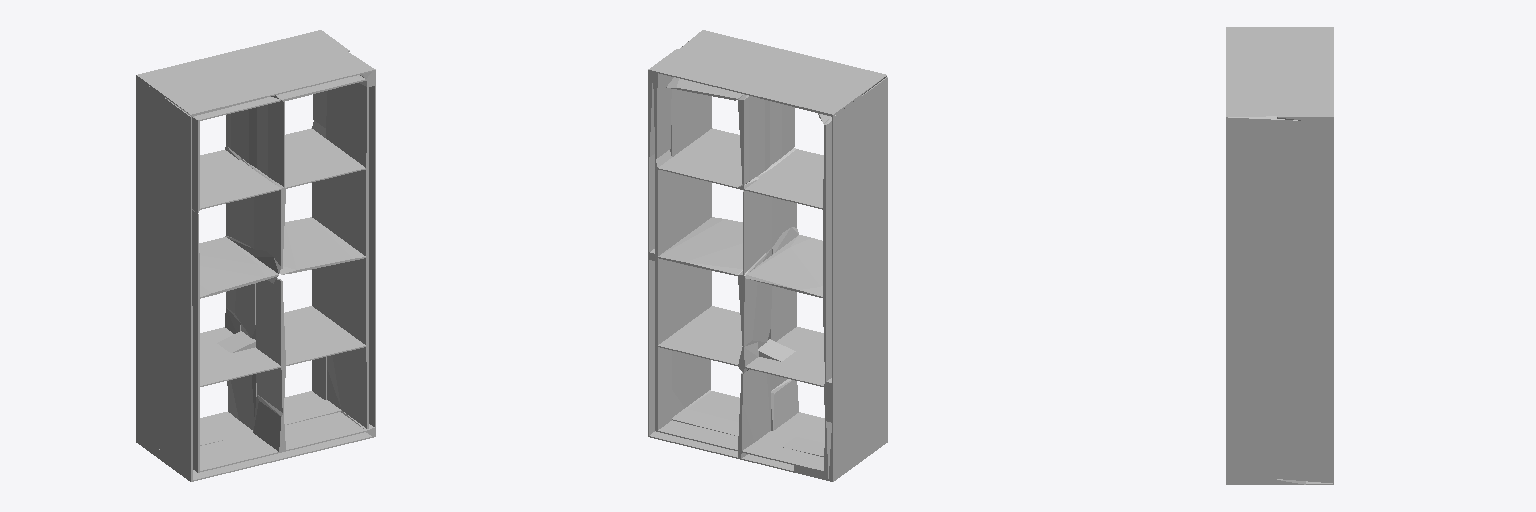
The model's file is new_bookshelf.obj.
3 views of the same model, side by side, from view 1: azimuth 30°, elevation 25°; view 2: azimuth 150°, elevation 25°; view 3: azimuth 270°, elevation 25° (orthographic).
Visible parts, largest first — view 1: convex_14, convex_4, convex_20, convex_23, convex_11, convex_0, convex_8, convex_27, convex_28, convex_40, convex_21, convex_12 (+17 smaller); view 2: convex_20, convex_4, convex_14, convex_23, convex_11, convex_0, convex_46, convex_21, convex_40, convex_27, convex_12, convex_9 (+18 smaller); view 3: convex_15, convex_0, convex_12, convex_18, convex_34, convex_17.
Part boxes in pixels (x1,y1,x2,y2): convex_14: (326,83,368,428); convex_4: (165,98,192,481); convex_20: (136,78,164,452); convex_23: (200,128,365,209); convex_11: (200,306,365,386); convex_0: (136,52,285,116); convex_8: (200,412,365,471); convex_27: (226,158,285,268); convex_28: (256,278,285,412); convex_40: (199,237,278,298); convex_21: (279,217,365,274); convex_12: (232,32,349,71); convex_20: (832,95,861,460); convex_4: (862,77,887,460); convex_14: (670,89,711,407); convex_23: (658,128,823,209); convex_11: (658,306,824,386); convex_0: (738,52,886,116); convex_46: (655,150,671,431); convex_21: (658,217,742,275); convex_40: (745,235,822,297); convex_27: (743,148,796,274); convex_12: (658,49,765,92); convex_9: (738,95,769,184); convex_15: (1226,133,1333,483); convex_0: (1226,27,1333,73); convex_12: (1277,74,1333,120); convex_18: (1226,74,1276,115); convex_34: (1306,115,1333,204); convex_17: (1226,116,1305,136).
Bounding box in the file's own units: 0.1156 × 0.2195 × 0.0589.